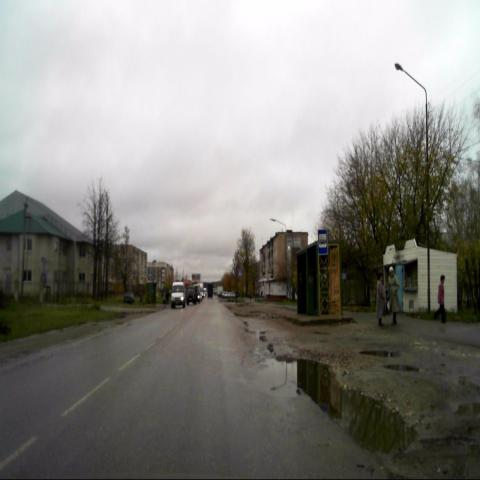5_16: (318, 228, 328, 255)
